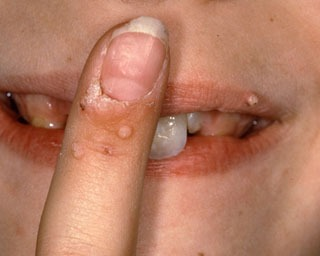Warts: (65, 123, 134, 171), (245, 90, 268, 110)
